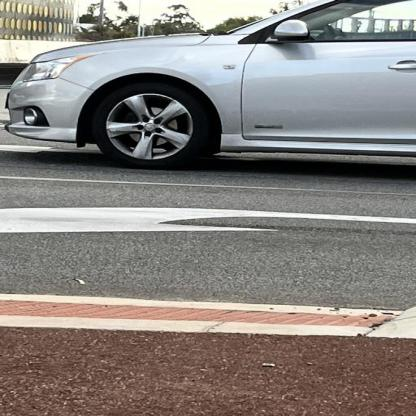Tire: (90, 80, 214, 170)
